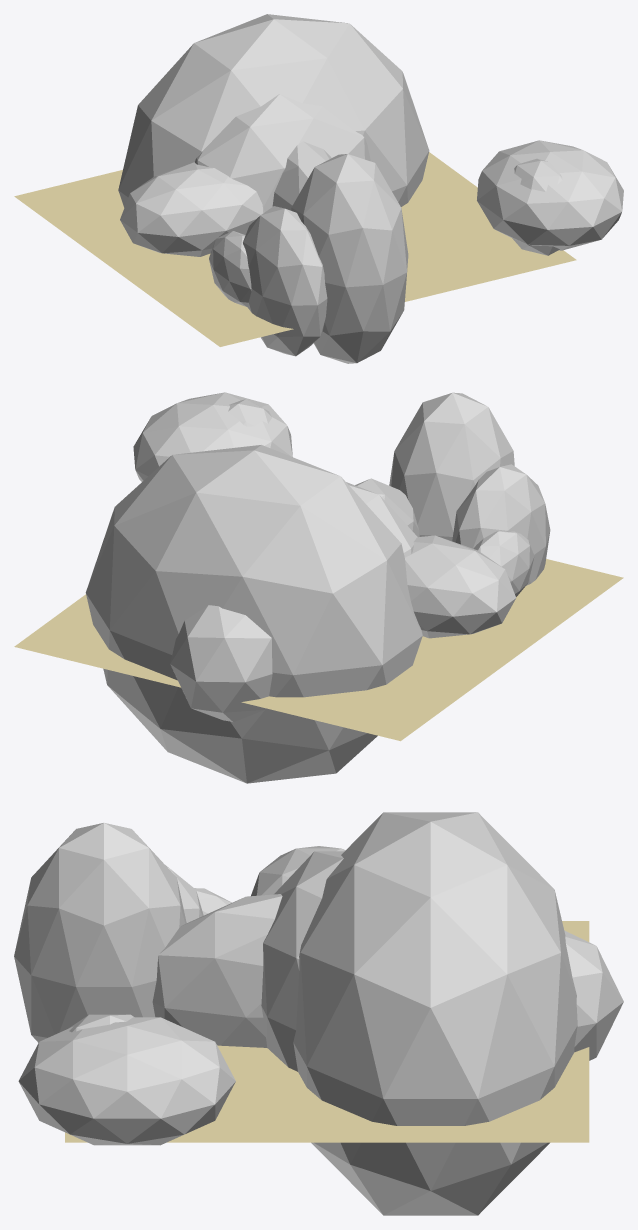
The picture shows the model from 3 angles, top to bottom: view 1: azimuth 30°, elevation 25°; view 2: azimuth 150°, elevation 25°; view 3: azimuth 270°, elevation 25°; orthographic projection. The views are drawn at different scales.
Visible parts, largest first — view 1: Icosphere.006, Plane, Icosphere.008, Icosphere.009, Icosphere.004, Icosphere.003, Icosphere.002, Icosphere.005, Icosphere.007, Icosphere; view 2: Icosphere.006, Plane, Icosphere.008, Icosphere.001, Icosphere.004, Icosphere.009, Icosphere.003, Icosphere.005, Icosphere.002, Icosphere.007, Icosphere; view 3: Icosphere.006, Icosphere.008, Icosphere.009, Plane, Icosphere.007, Icosphere.002, Icosphere.001, Icosphere.004, Icosphere.003, Icosphere.
Boxes of the visible parts, x1,y1,x2,y2 form: Icosphere.006: (118, 14, 429, 207); Plane: (14, 152, 576, 346); Icosphere.008: (291, 154, 408, 363); Icosphere.009: (477, 140, 623, 250); Icosphere.004: (120, 162, 264, 256); Icosphere.003: (243, 206, 327, 356); Icosphere.002: (195, 94, 370, 211); Icosphere.005: (209, 231, 251, 306); Icosphere.007: (272, 141, 331, 210); Icosphere: (511, 158, 562, 255); Icosphere.006: (85, 445, 422, 783); Plane: (14, 559, 623, 741); Icosphere.008: (389, 392, 514, 541); Icosphere.001: (170, 605, 272, 722); Icosphere.004: (405, 535, 515, 638); Icosphere.009: (133, 392, 292, 481); Icosphere.003: (452, 464, 550, 585); Icosphere.005: (473, 530, 534, 596); Icosphere.002: (346, 482, 417, 557); Icosphere.007: (355, 478, 419, 536); Icosphere: (228, 399, 272, 426); Icosphere.006: (293, 812, 577, 1215); Icosphere.008: (14, 823, 186, 1042); Icosphere.009: (18, 1017, 235, 1145); Plane: (65, 921, 589, 1142); Icosphere.007: (152, 894, 282, 1047); Icosphere.002: (261, 851, 344, 1071); Icosphere.001: (564, 930, 623, 1060); Icosphere.004: (251, 846, 345, 896); Icosphere.003: (165, 865, 203, 922); Icosphere: (68, 1014, 134, 1032).
Size of the model in its own units: 23.26 by 16.19 by 23.27.
